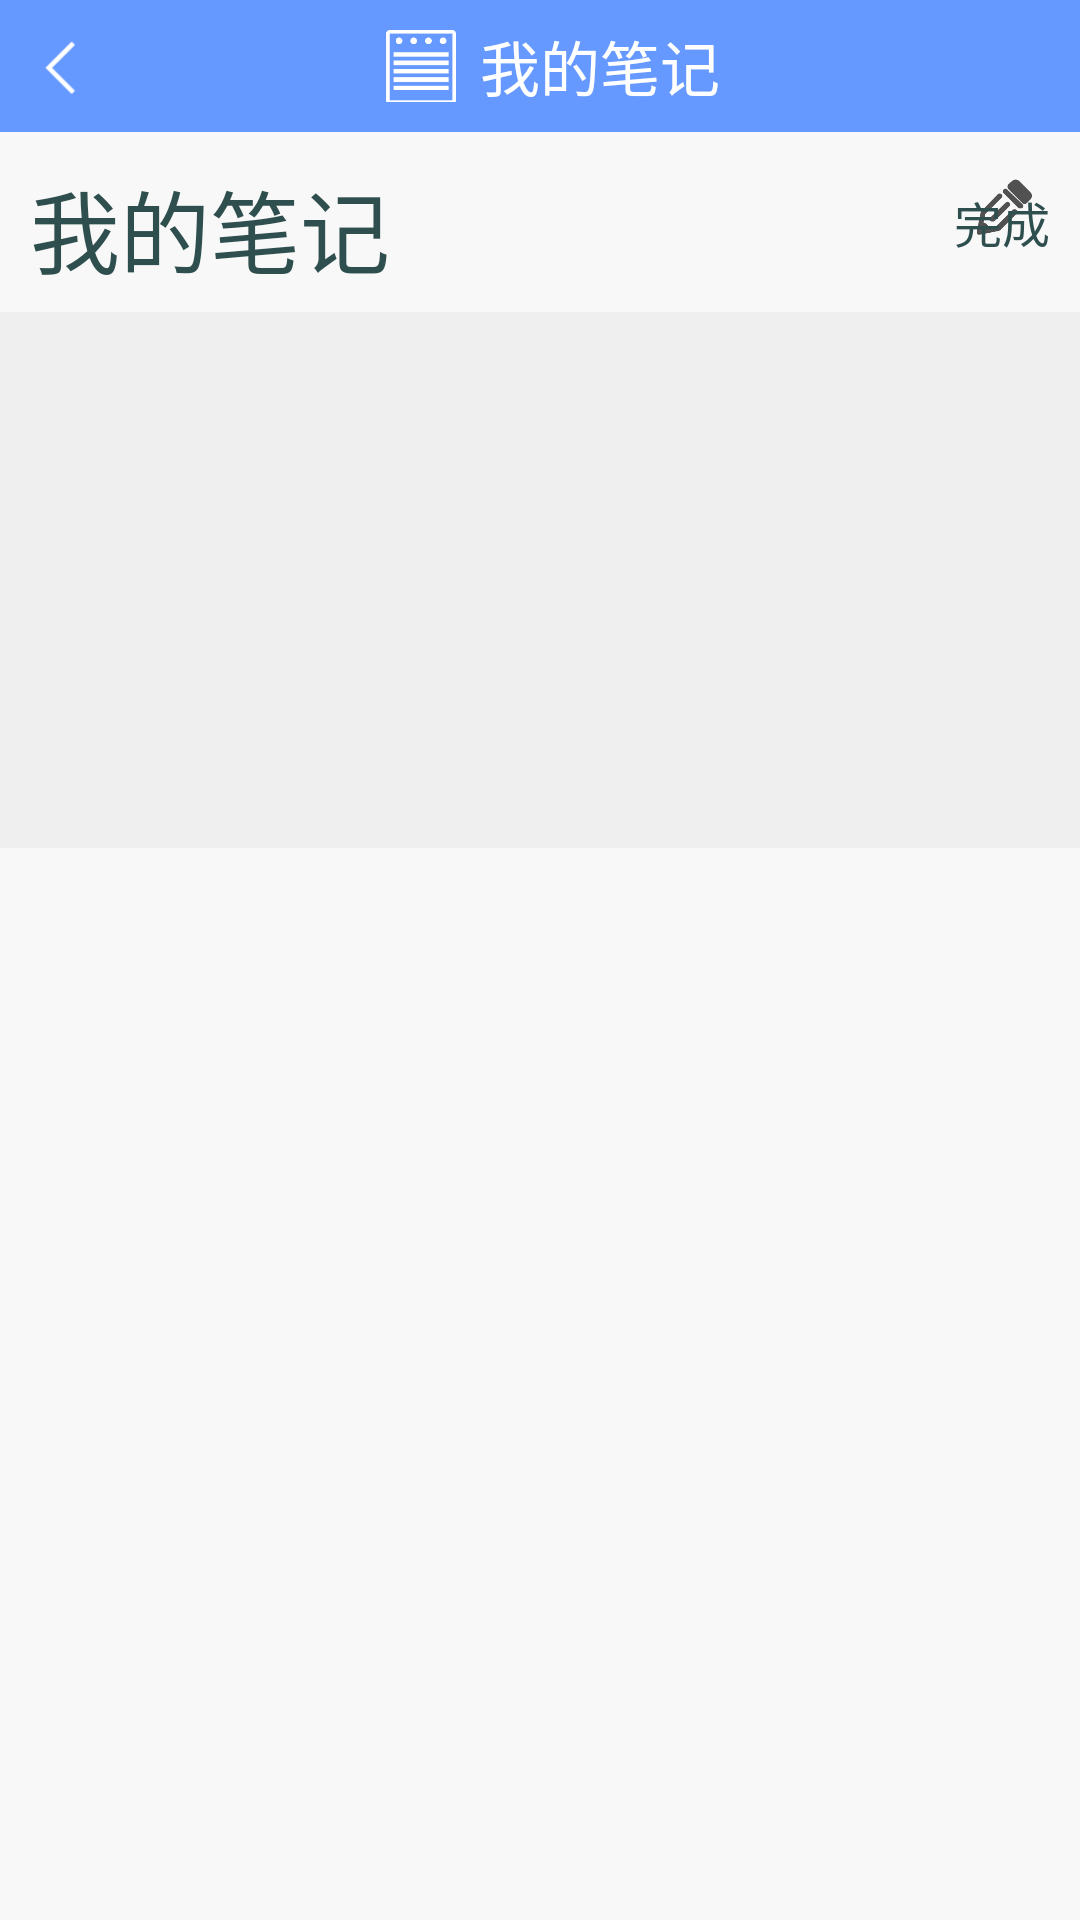

Point at icon controls on the screen. Image size 1080×1920, points as (x,y).
back: (60,68)
note: (421,66)
